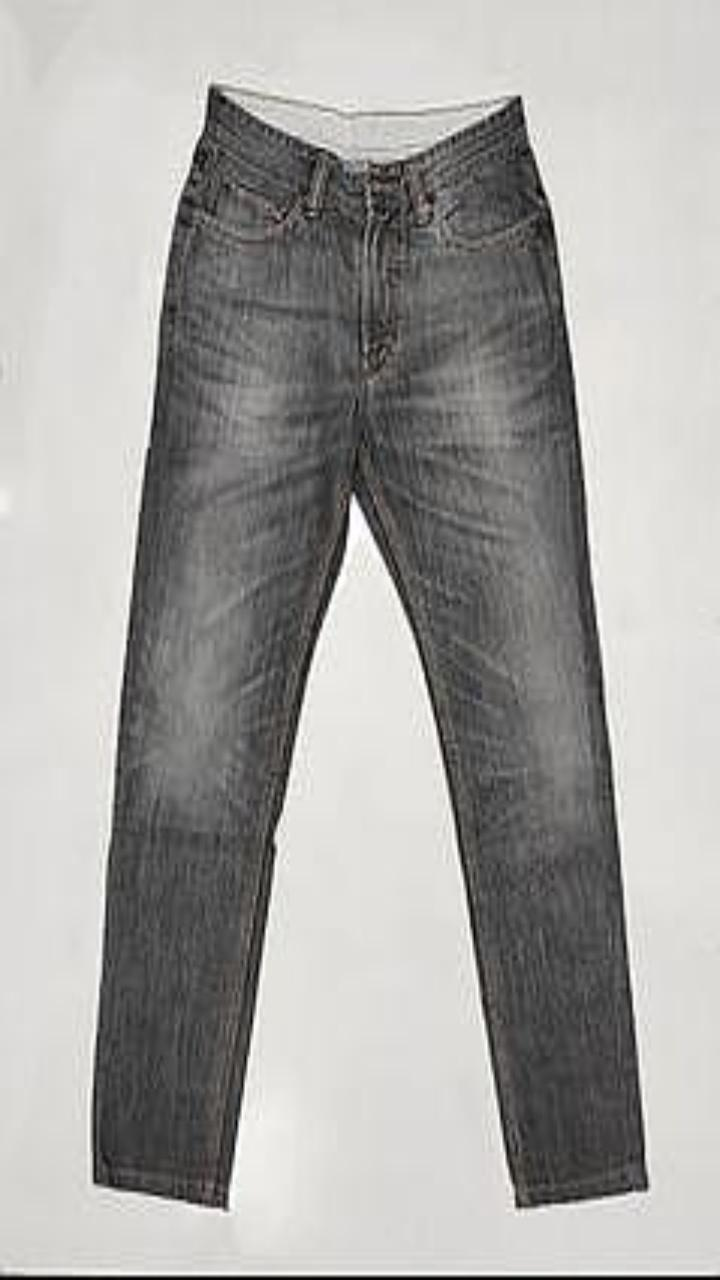Jeans: (92, 82, 648, 1208)
